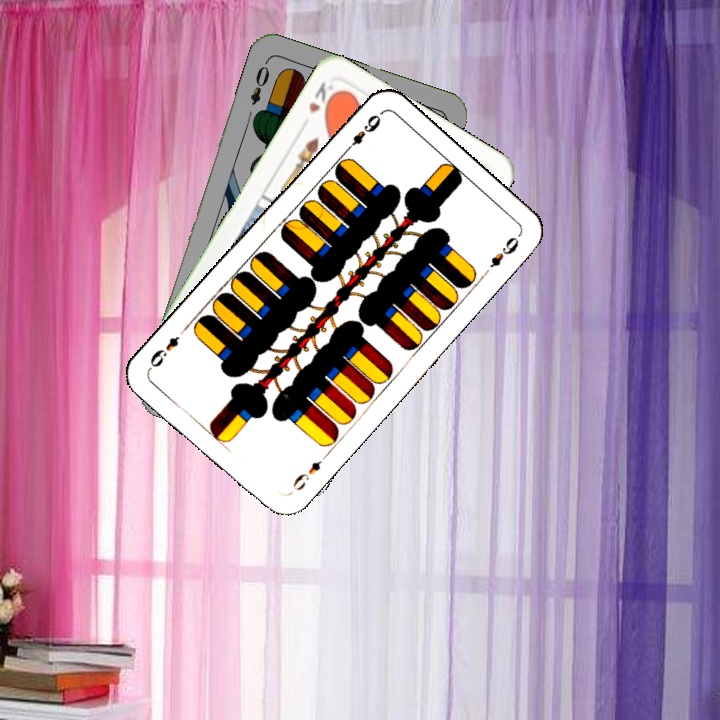E9: (285, 450, 331, 497), (340, 110, 384, 156)
EO: (246, 57, 272, 108)
HK: (304, 77, 342, 118)
